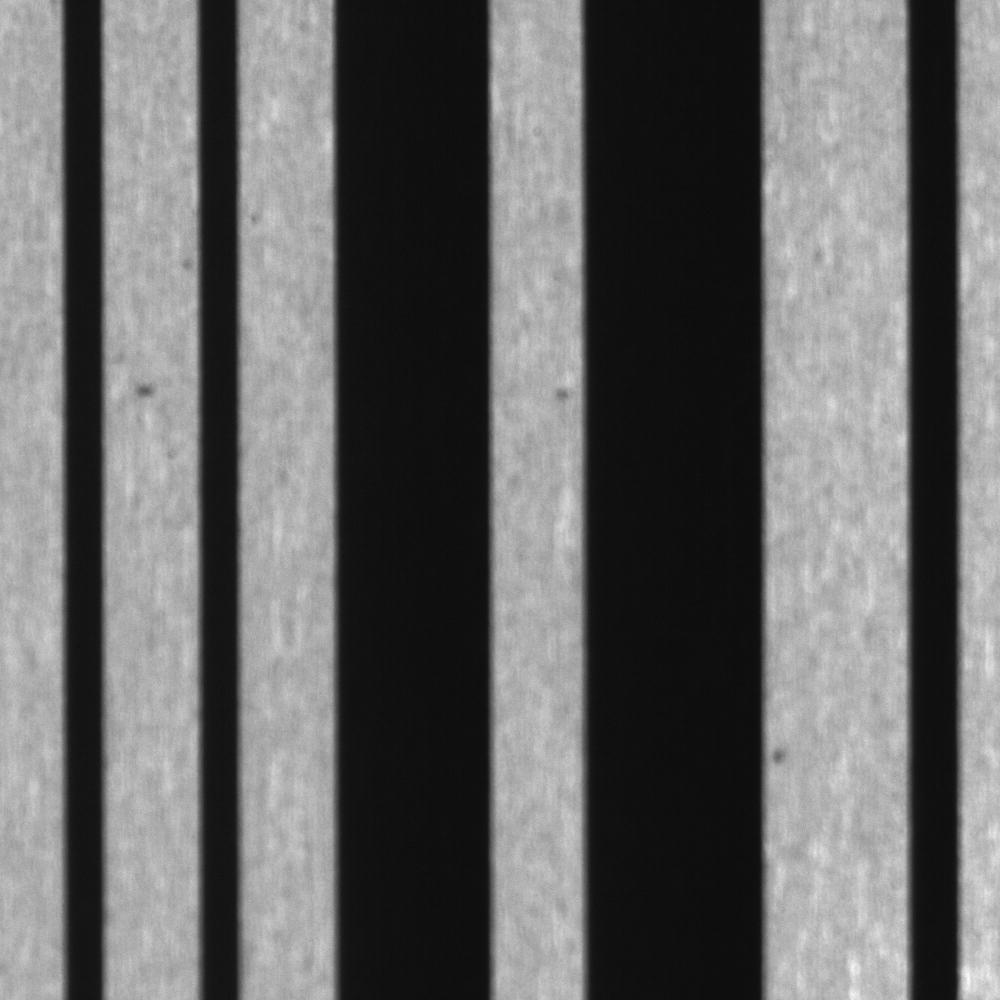Etching: (125, 372, 164, 404), (766, 732, 796, 773), (546, 374, 579, 411)
